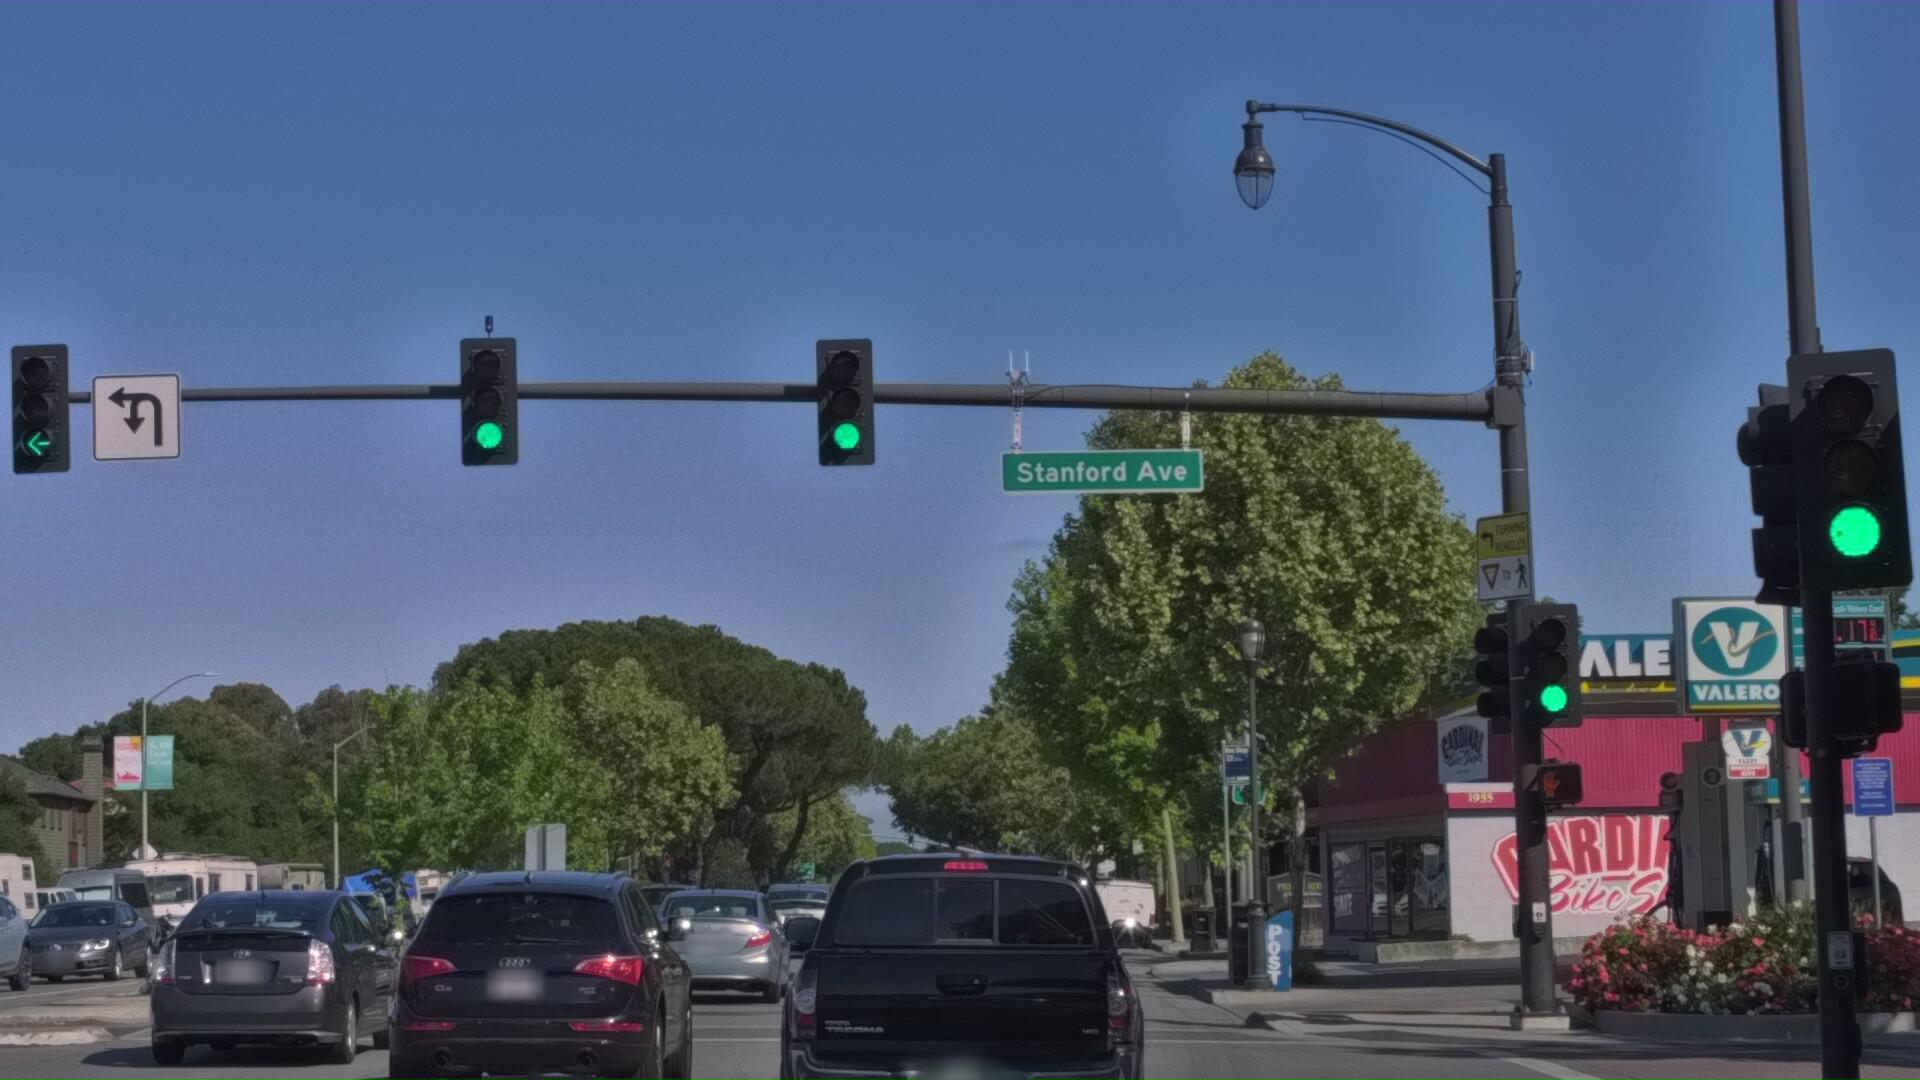car: (778, 901, 1160, 1080), (373, 944, 699, 1080), (137, 955, 425, 1080), (1718, 926, 1917, 1048), (621, 982, 811, 1080), (4, 971, 174, 1071), (963, 968, 1069, 1059), (745, 984, 851, 1071), (0, 955, 50, 1080)
